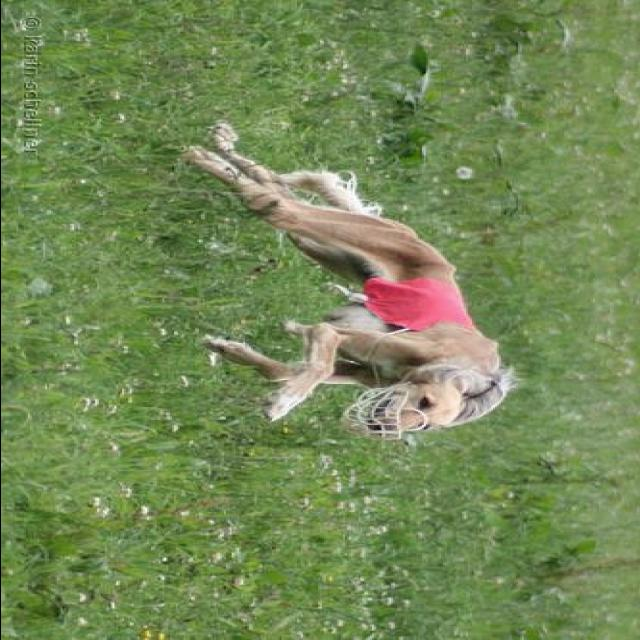saluki: (175, 122, 509, 440)
